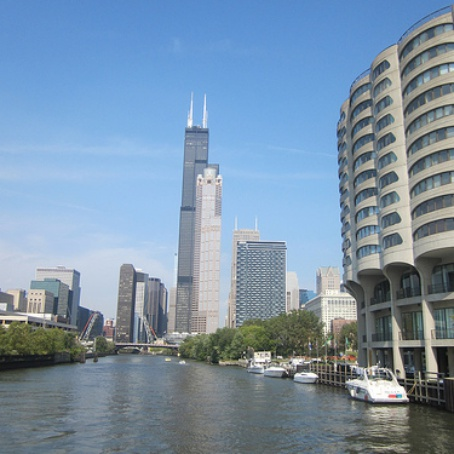boat: (334, 367, 417, 414)
building: (333, 14, 454, 363), (174, 113, 220, 343), (231, 230, 287, 330), (28, 263, 86, 333), (113, 263, 156, 352)
river: (10, 359, 435, 454)
sky: (1, 1, 341, 258)
